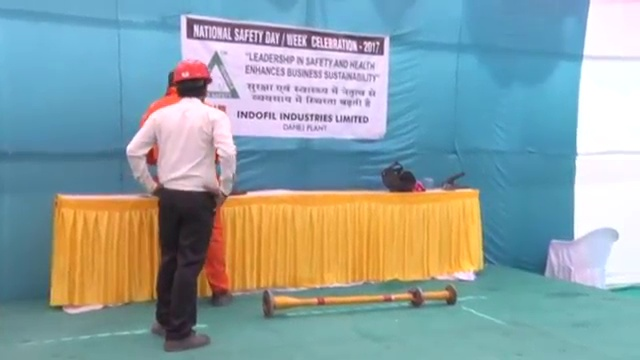helmet: (173, 58, 214, 86)
helmet_on: (172, 57, 214, 101)
person: (128, 58, 236, 352)
